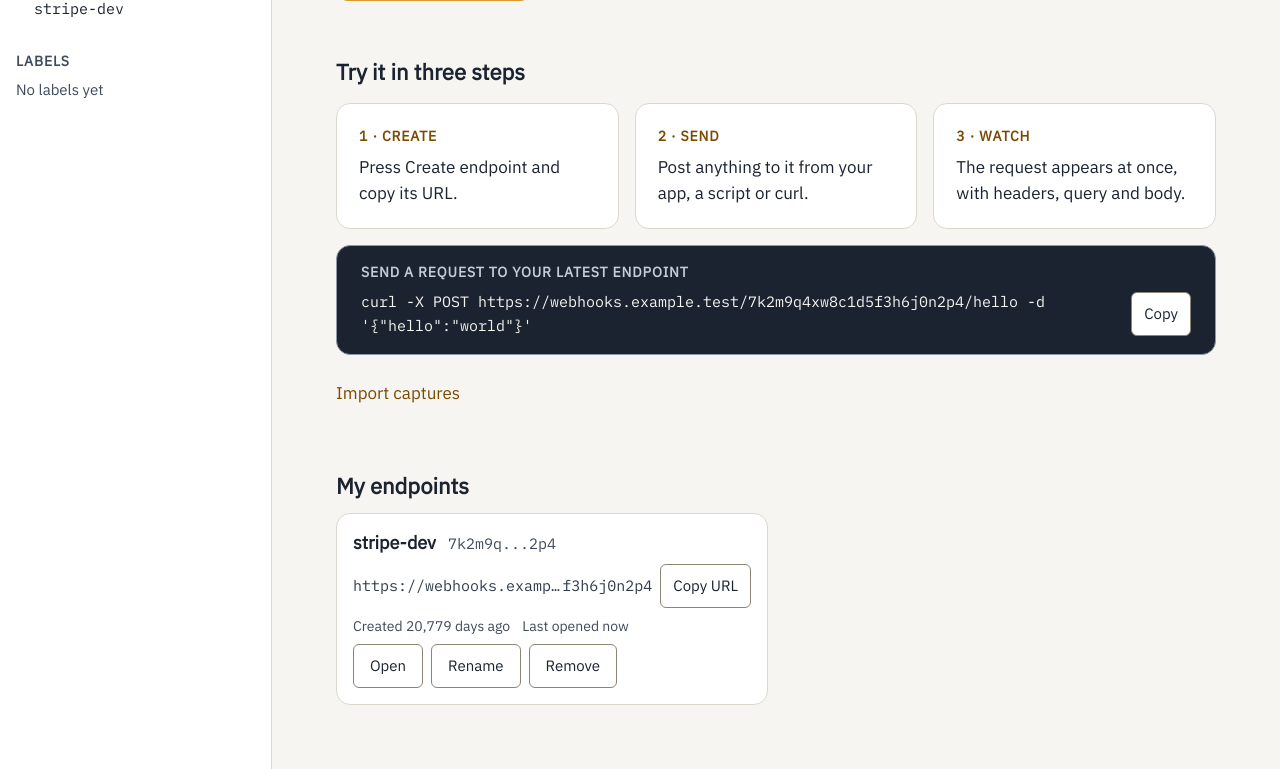
it: home screen › removes an endpoint from my endpoints without touching the server copy
(page scrolled)
Click the button with aria-label "Remove stripe-dev from my endpoints".
click(573, 666)  # box [529, 644, 617, 688]
(page scrolled)
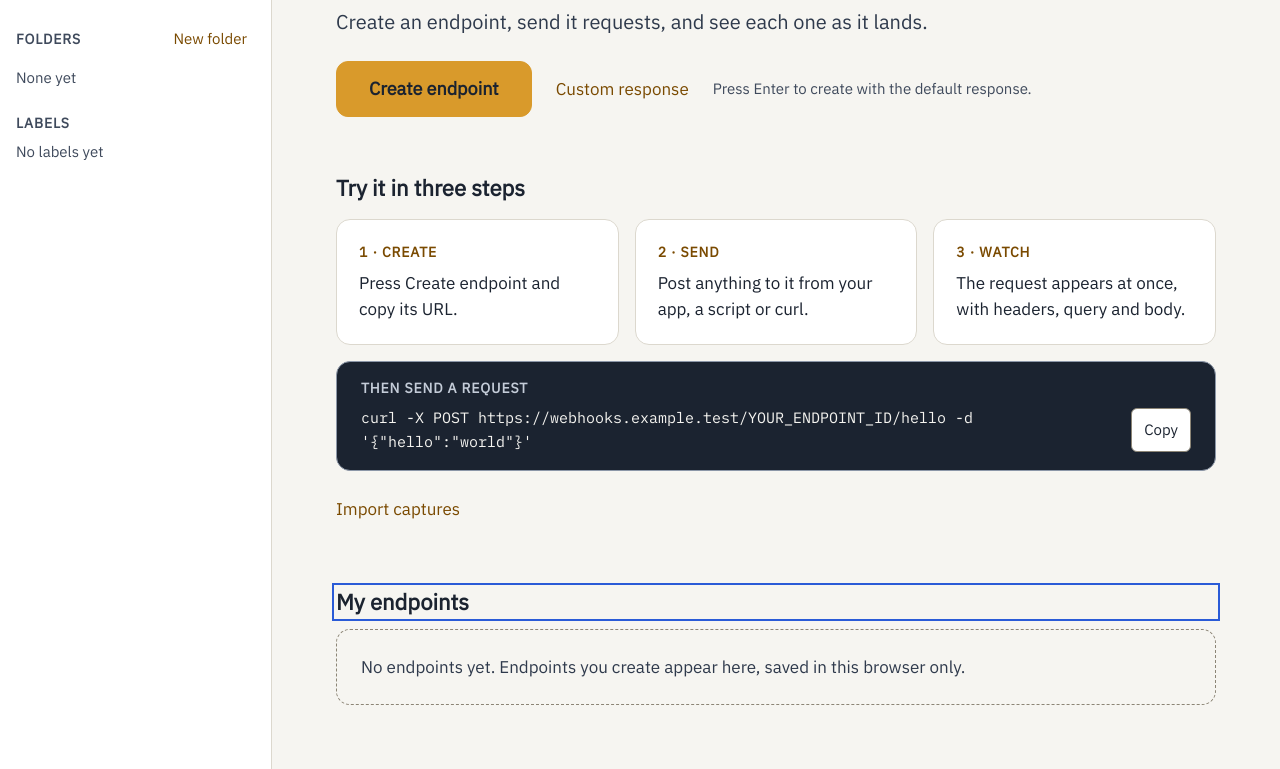
Check: the text "No endpoints yet. Endpoints you create appear here, saved in this browser only." is shown, box [336, 629, 1216, 705]
